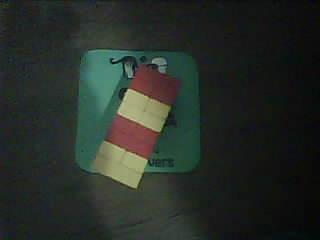lego: (90, 64, 181, 190)
